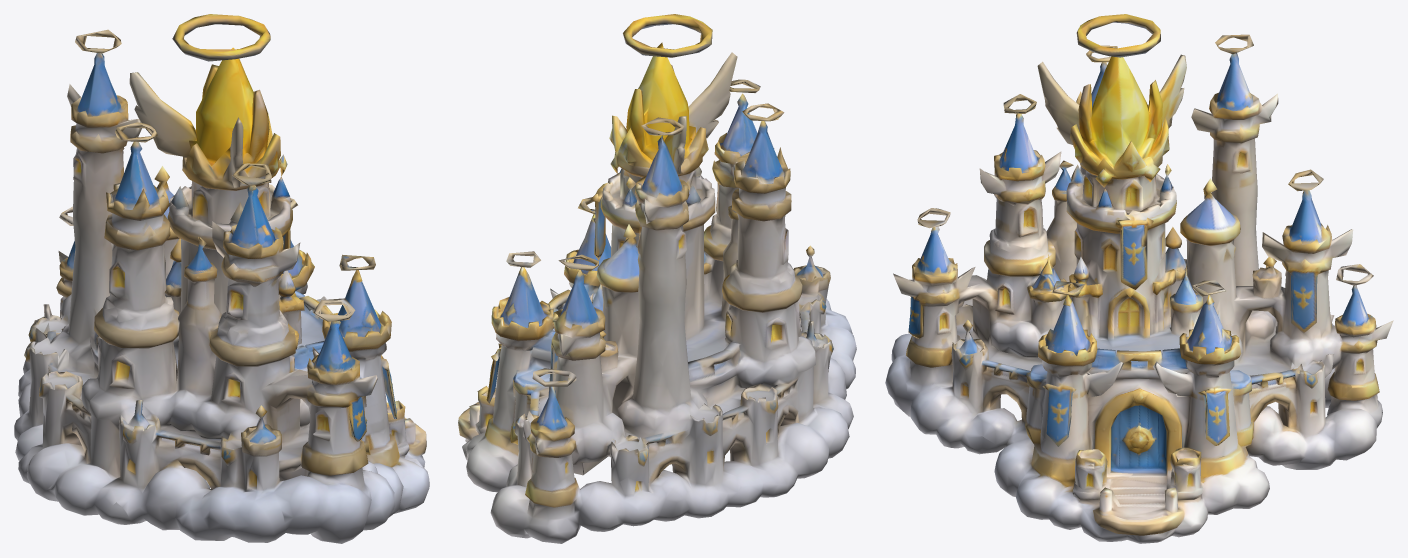
File: Town_Halo_Castle_raw.glb
3 views of the same model, side by side, from view 1: azimuth 30°, elevation 25°; view 2: azimuth 150°, elevation 25°; view 3: azimuth 270°, elevation 25° (orthographic). The views are drawn at different scales.
Parts seen in each view (by area): view 1: tripo_node_be69fc87-4ef6-47e3-bb05-a239e8343abf; view 2: tripo_node_be69fc87-4ef6-47e3-bb05-a239e8343abf; view 3: tripo_node_be69fc87-4ef6-47e3-bb05-a239e8343abf.
Part boxes in pixels (x1,y1,x2,y2): tripo_node_be69fc87-4ef6-47e3-bb05-a239e8343abf: [14, 14, 429, 543]; tripo_node_be69fc87-4ef6-47e3-bb05-a239e8343abf: [458, 14, 856, 543]; tripo_node_be69fc87-4ef6-47e3-bb05-a239e8343abf: [885, 14, 1393, 543].
Size of the model in its own units: 0.7897 by 0.9387 by 1.
1 material, 1 textured.
